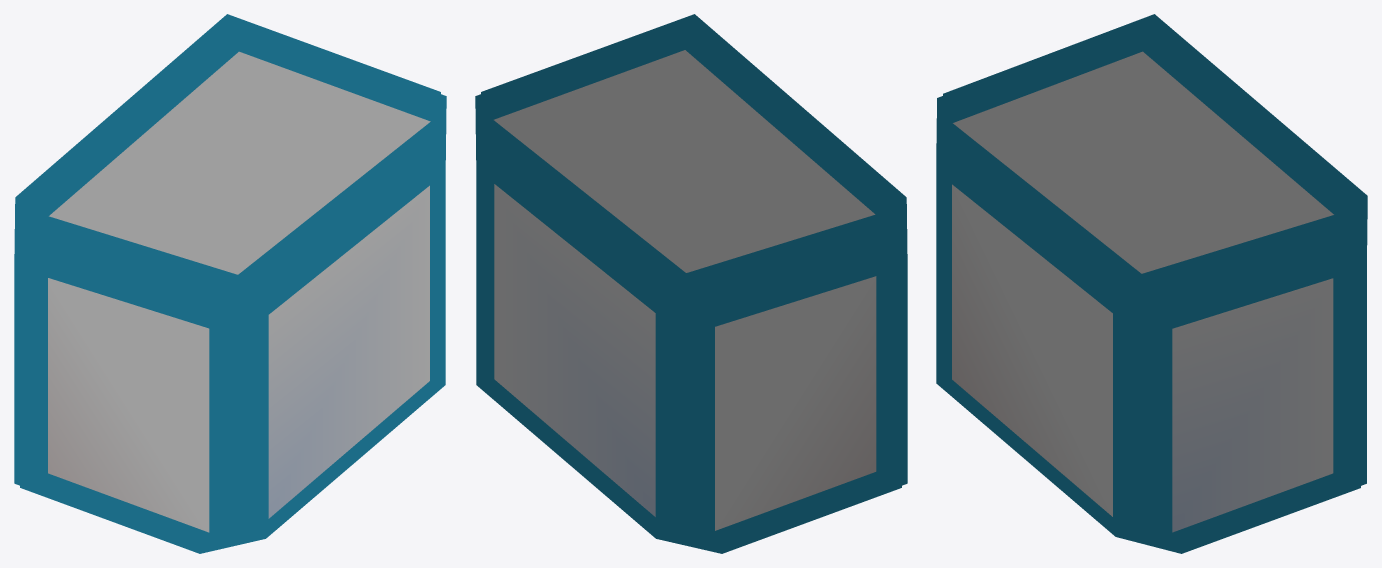
The model's file is SketchfabObj.glb.
3 views of the same model, side by side, from view 1: azimuth 30°, elevation 25°; view 2: azimuth 150°, elevation 25°; view 3: azimuth 330°, elevation 25° (orthographic).
Visible parts, largest first — view 1: ObjSketchfab; view 2: ObjSketchfab; view 3: ObjSketchfab.
Boxes of the visible parts, left/top/right/bottom form: ObjSketchfab: left=14, top=14, right=446, bottom=553; ObjSketchfab: left=475, top=14, right=907, bottom=553; ObjSketchfab: left=936, top=14, right=1367, bottom=553.
Size of the model in its own units: 1.26 by 1.49 by 0.0793.
